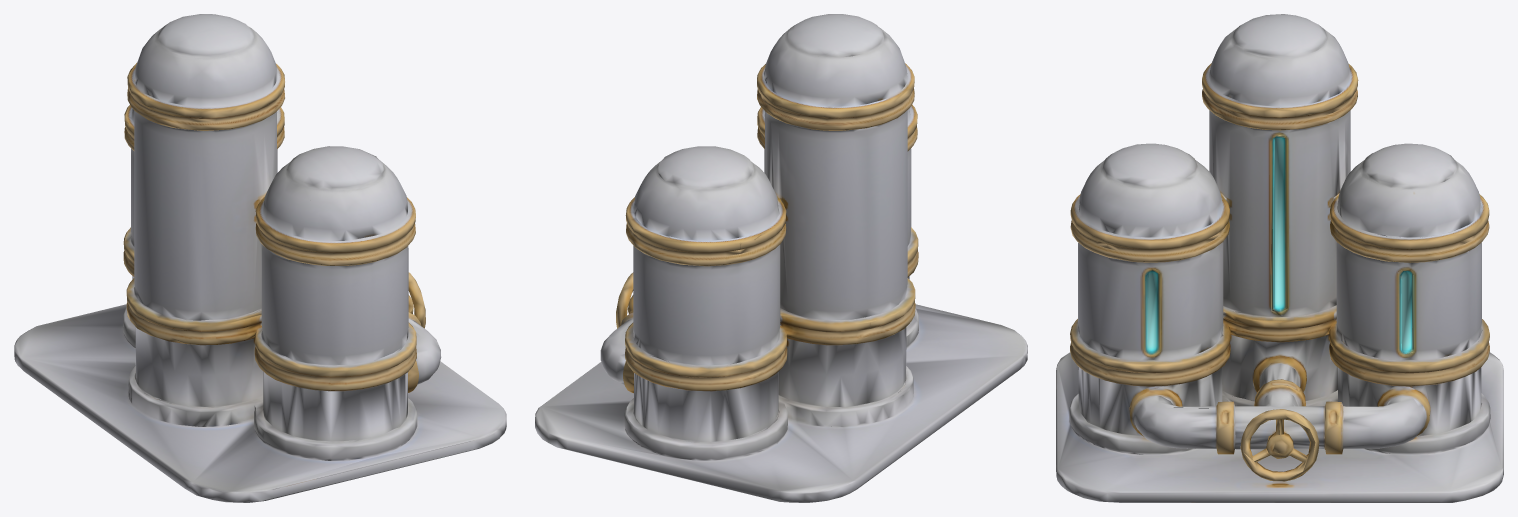
3 views of the same model, side by side, from view 1: azimuth 30°, elevation 25°; view 2: azimuth 150°, elevation 25°; view 3: azimuth 270°, elevation 25° (orthographic).
Parts seen in each view (by area): view 1: repaired; view 2: repaired; view 3: repaired.
Boxes of the visible parts, bbox=[...] form: repaired: bbox=[14, 14, 506, 502]; repaired: bbox=[535, 14, 1027, 502]; repaired: bbox=[1056, 14, 1503, 502].
Size of the model in its own units: 0.8003 by 0.9293 by 0.9994.
Materials: 1 (1 with a texture image).
